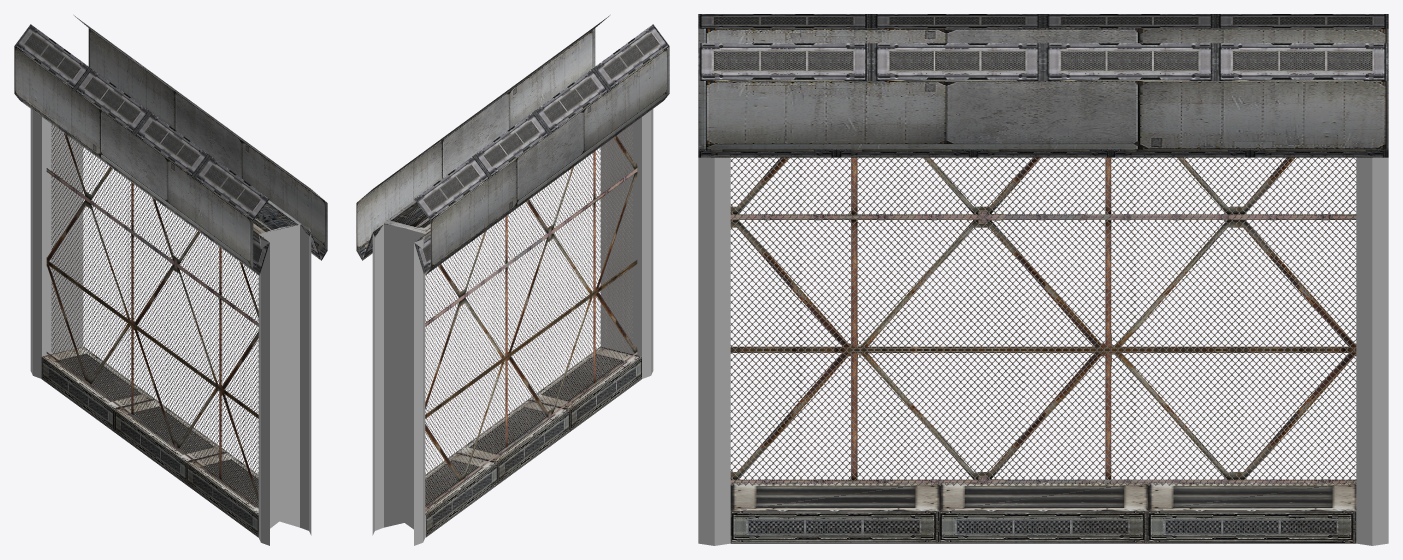
Rendered from Wall_E_Mid4mts_42.fbx.
3 renders of one model, left to right at view 1: azimuth 30°, elevation 25°; view 2: azimuth 150°, elevation 25°; view 3: azimuth 270°, elevation 25°, orthographic. The views are drawn at different scales.
Visible parts, largest first — view 1: Wall_Framework, Metal Grid, girder; view 2: Wall_Framework, Metal Grid, girder; view 3: Wall_Framework, Metal Grid, girder.
Part boxes in pixels (bbox=[...]): Wall_Framework: bbox=[14, 15, 327, 545]; Metal Grid: bbox=[51, 124, 258, 503]; girder: bbox=[46, 133, 263, 508]; Wall_Framework: bbox=[356, 15, 669, 545]; Metal Grid: bbox=[415, 125, 632, 503]; girder: bbox=[420, 135, 637, 508]; Wall_Framework: bbox=[698, 14, 1388, 545]; Metal Grid: bbox=[730, 157, 1356, 485]; girder: bbox=[730, 157, 1356, 482].
Bounding box in the file's own units: 89.83 × 400 × 500.
